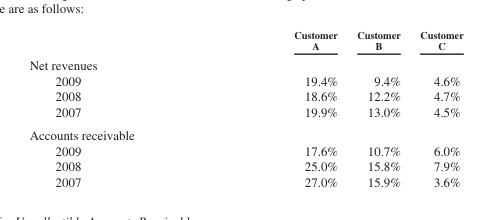table: (28, 28, 462, 188)
table column: (186, 28, 346, 188), (28, 28, 186, 188), (346, 28, 409, 188), (409, 28, 462, 188)
table column header: (28, 28, 462, 54)
table projected row header: (28, 123, 462, 142), (28, 54, 462, 72)
table row: (28, 28, 462, 54), (28, 103, 462, 123), (28, 123, 462, 142), (28, 54, 462, 72), (28, 72, 462, 88), (28, 142, 462, 158), (28, 88, 462, 103), (28, 158, 462, 173), (28, 173, 462, 188)
